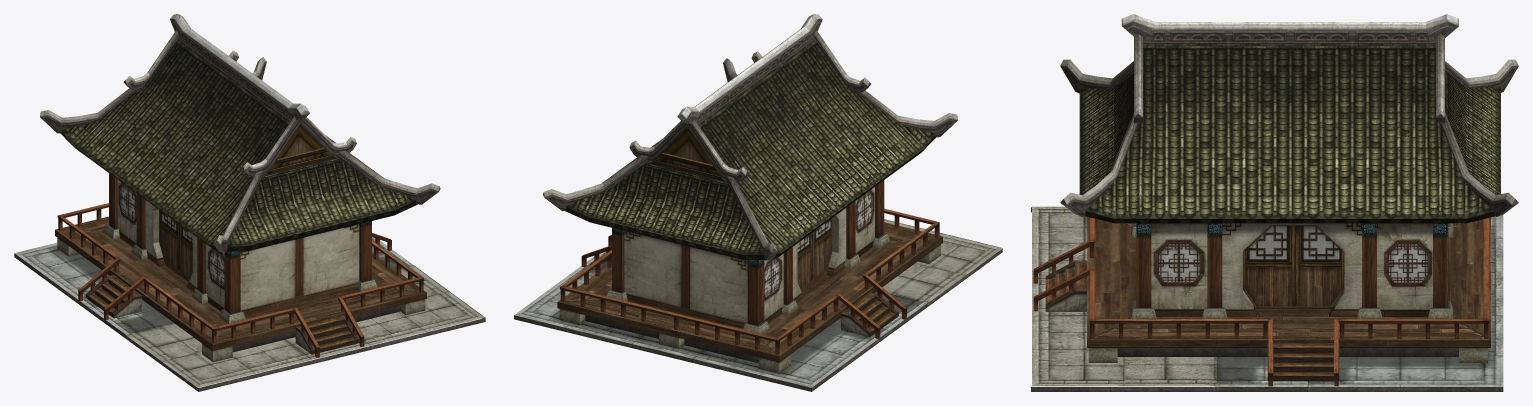
Rendered from b1-008-house5.fbx.
The picture shows the model from 3 angles, left to right: view 1: azimuth 30°, elevation 25°; view 2: azimuth 150°, elevation 25°; view 3: azimuth 270°, elevation 25°; orthographic projection. The views are drawn at different scales.
Parts seen in each view (by area): view 1: b1-008-house5; view 2: b1-008-house5; view 3: b1-008-house5.
Boxes of the visible parts, left/top/right/bottom form: b1-008-house5: left=14, top=14, right=485, bottom=391; b1-008-house5: left=514, top=14, right=1002, bottom=391; b1-008-house5: left=1031, top=14, right=1518, bottom=391.
Size of the model in its own units: 14.76 by 11 by 16.91.
